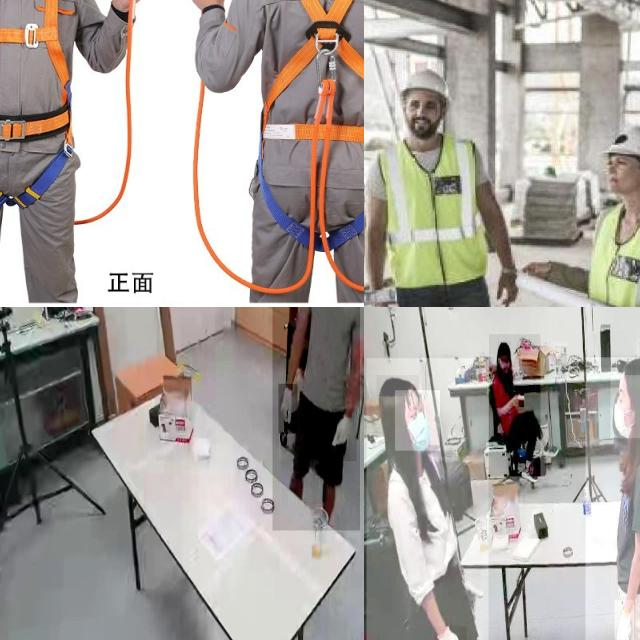Harness: (255, 0, 364, 233), (0, 0, 72, 209)
face_mask: (395, 390, 440, 451), (610, 375, 640, 438)
face_nomask: (404, 95, 440, 134), (602, 157, 632, 186), (498, 355, 511, 375)
hand_glove: (332, 409, 357, 462), (278, 384, 298, 434), (614, 600, 634, 640), (434, 625, 467, 640)
hand_noglove: (492, 270, 522, 307), (521, 259, 552, 284), (369, 298, 395, 307), (510, 392, 524, 407)
head_nohelmet: (599, 124, 640, 171), (399, 67, 453, 101), (377, 375, 419, 397), (618, 355, 640, 378), (498, 341, 510, 353)
person: (364, 70, 518, 307), (366, 358, 489, 640), (272, 307, 360, 531), (585, 357, 640, 640), (570, 118, 640, 307), (489, 334, 541, 478)
vest: (376, 136, 489, 286), (584, 201, 640, 307)
